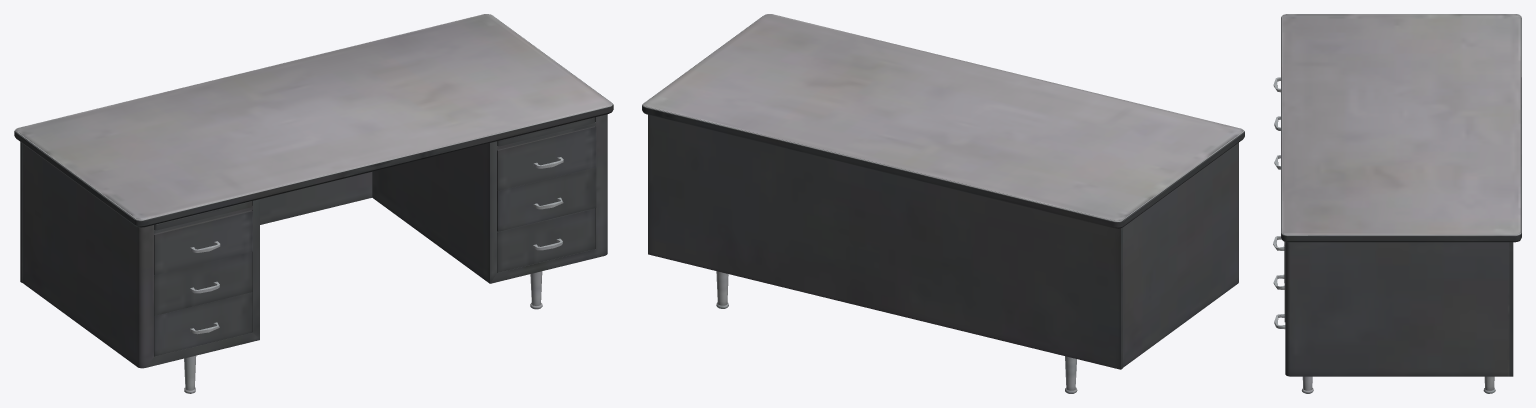
File: metal_office_desk.glb
3 views of the same model, side by side, from view 1: azimuth 30°, elevation 25°; view 2: azimuth 150°, elevation 25°; view 3: azimuth 270°, elevation 25° (orthographic). The views are drawn at different scales.
Visible parts, largest first — view 1: metal_office_desk, metal_office_desk_drawer_04, metal_office_desk_drawer_01, metal_office_desk_drawer_02, metal_office_desk_drawer_03, metal_office_desk_drawer_06, metal_office_desk_drawer_05, metal_office_desk_tray_01, metal_office_desk_tray_02; view 2: metal_office_desk; view 3: metal_office_desk.
Part boxes in pixels (x1=…): metal_office_desk: x1=14, y1=14, x2=613, y2=393; metal_office_desk_drawer_04: x1=154, y1=210, x2=252, y2=275; metal_office_desk_drawer_01: x1=497, y1=126, x2=596, y2=191; metal_office_desk_drawer_02: x1=497, y1=167, x2=596, y2=231; metal_office_desk_drawer_03: x1=497, y1=208, x2=595, y2=272; metal_office_desk_drawer_06: x1=154, y1=292, x2=252, y2=356; metal_office_desk_drawer_05: x1=154, y1=251, x2=252, y2=315; metal_office_desk_tray_01: x1=154, y1=201, x2=252, y2=230; metal_office_desk_tray_02: x1=497, y1=117, x2=594, y2=146; metal_office_desk: x1=642, y1=14, x2=1244, y2=393; metal_office_desk: x1=1281, y1=14, x2=1521, y2=393.
Size of the model in its own units: 2 by 0.7867 by 0.9472.
1 material, 1 textured.
